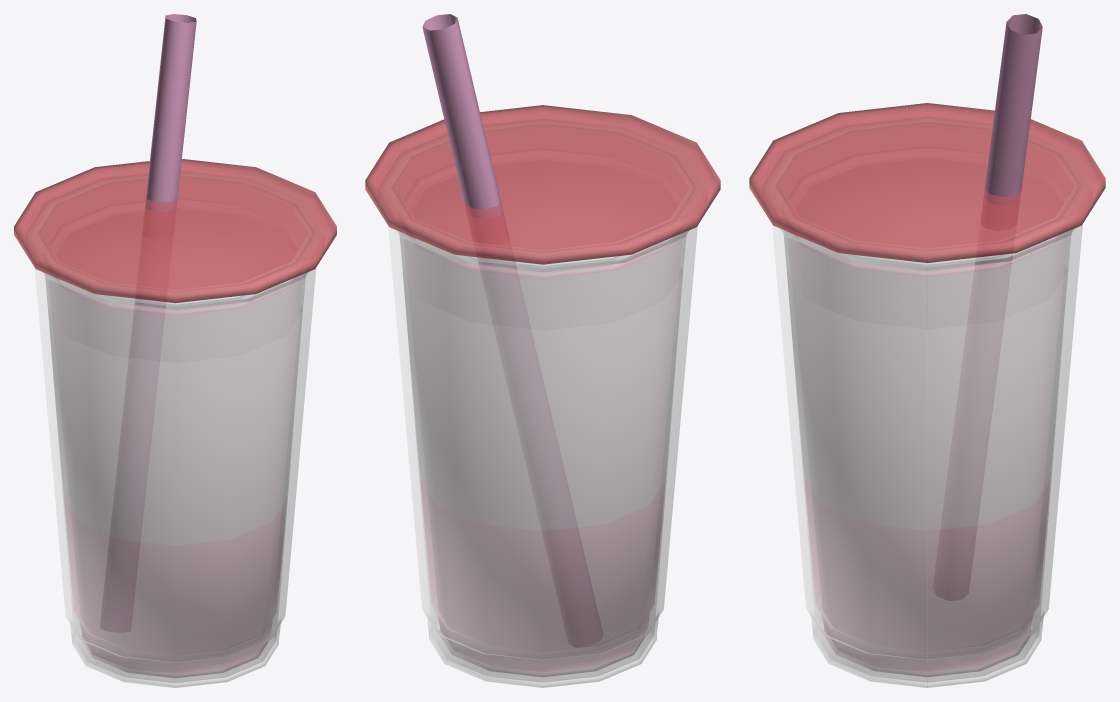
Rendered from strawberry_milk _tea_NO_boba.glb.
3 renders of one model, left to right at view 1: azimuth 30°, elevation 25°; view 2: azimuth 150°, elevation 25°; view 3: azimuth 270°, elevation 25°, orthographic. The views are drawn at different scales.
Parts seen in each view (by area): view 1: Cup, drink, top, straw; view 2: Cup, drink, top, straw; view 3: Cup, drink, top, straw.
Boxes of the visible parts, x1,y1,x2,y2 form: Cup: (27, 171, 323, 687); drink: (45, 273, 305, 677); top: (14, 159, 336, 303); straw: (134, 14, 196, 308); Cup: (378, 119, 707, 687); drink: (399, 232, 686, 676); top: (365, 105, 720, 264); straw: (422, 14, 516, 268); Cup: (762, 117, 1092, 687); drink: (783, 231, 1071, 676); top: (749, 103, 1105, 262); straw: (975, 14, 1042, 265).
Bounding box in the file's own units: 1.03 × 2.06 × 1.03.
